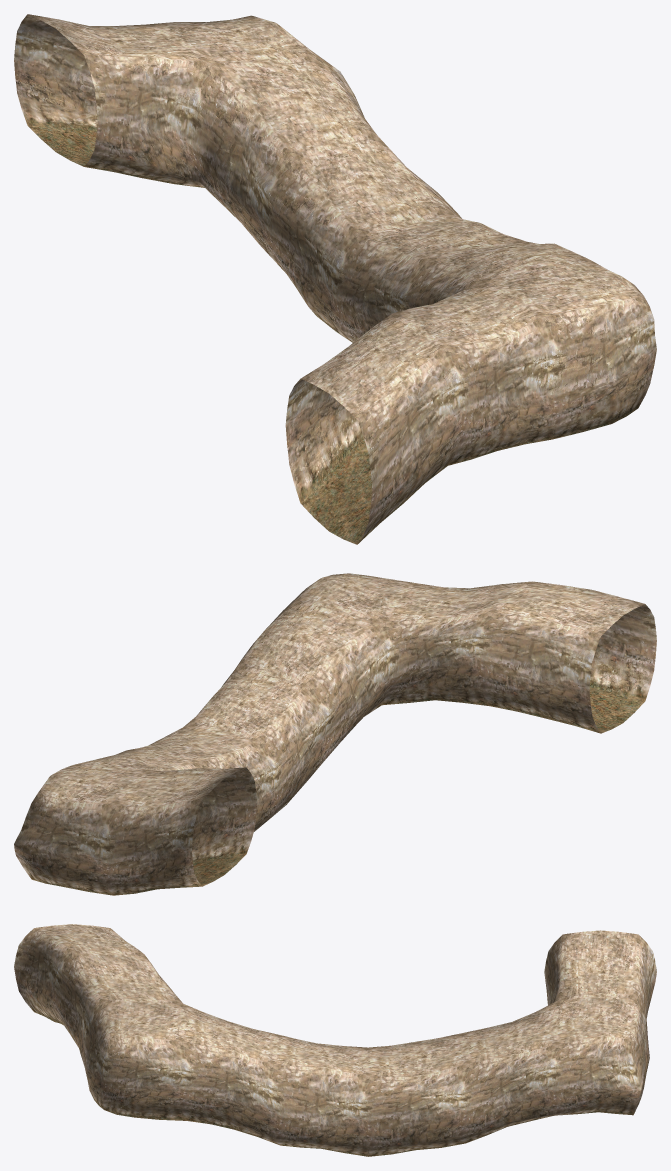
Rendered from thm_all_cave_s03_r14_mesh_r14.fbx.
The picture shows the model from 3 angles, top to bottom: view 1: azimuth 30°, elevation 25°; view 2: azimuth 150°, elevation 25°; view 3: azimuth 270°, elevation 25°; orthographic projection. The views are drawn at different scales.
Parts seen in each view (by area): view 1: mesh_node; view 2: mesh_node; view 3: mesh_node.
Part boxes in pixels (left/top/right/bottom): mesh_node: left=14, top=14, right=656, bottom=544; mesh_node: left=14, top=573, right=656, bottom=895; mesh_node: left=14, top=924, right=656, bottom=1156.
Size of the model in its own units: 25.32 by 15.04 by 55.57.
